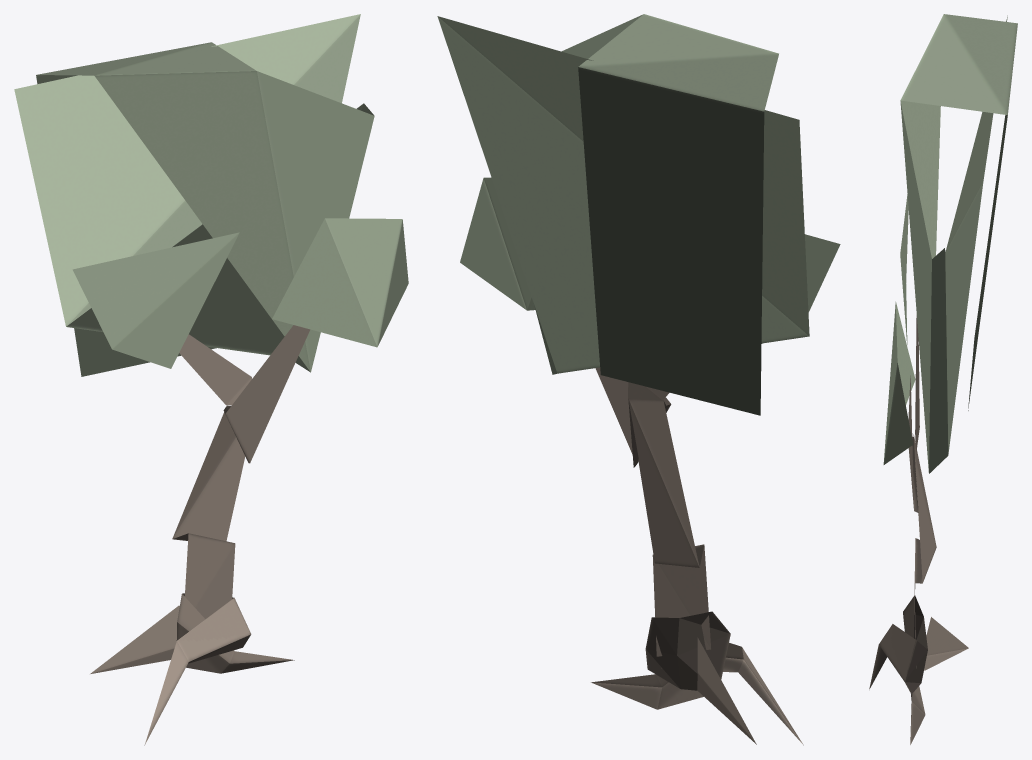
File: Arbre03.FBX
The picture shows the model from 3 angles, left to right: view 1: azimuth 30°, elevation 25°; view 2: azimuth 150°, elevation 25°; view 3: azimuth 270°, elevation 25°; orthographic projection. The views are drawn at different scales.
Visible parts, largest first — view 1: Tree03; view 2: Tree03; view 3: Tree03.
Boxes of the visible parts, x1,y1,x2,y2 form: Tree03: (14, 14, 408, 745); Tree03: (437, 14, 840, 745); Tree03: (869, 14, 1017, 744).
Size of the model in its own units: 805 by 288 by 1428.
Materials: 1 (1 with a texture image).
